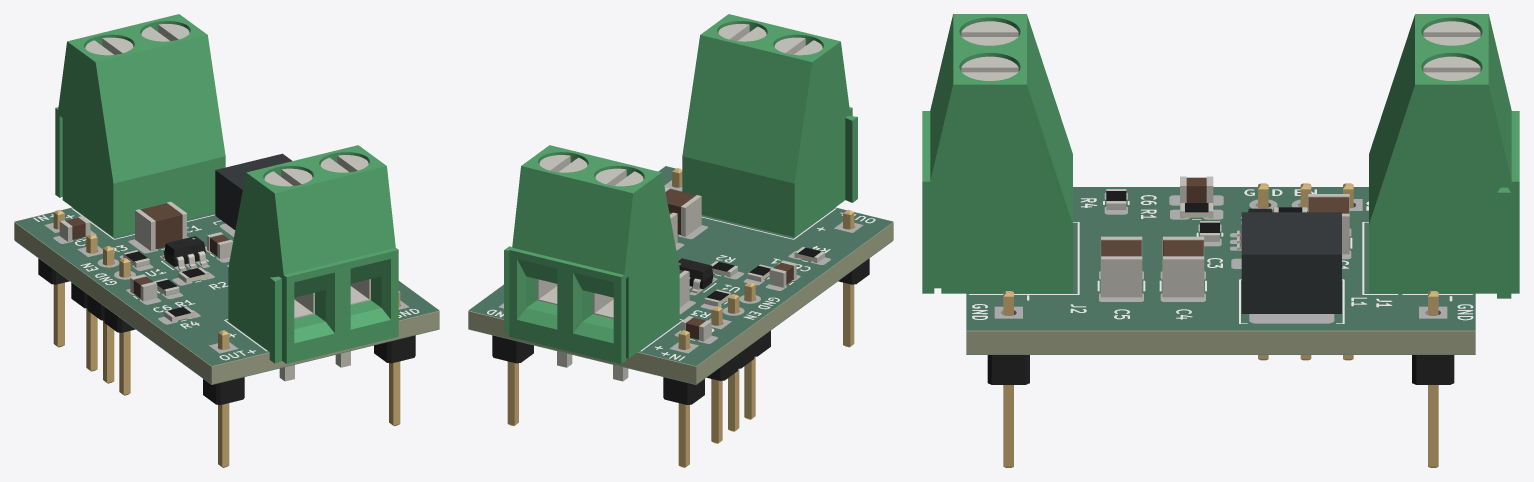
Rendered from board.glb.
3 renders of one model, left to right at view 1: azimuth 30°, elevation 25°; view 2: azimuth 150°, elevation 25°; view 3: azimuth 270°, elevation 25°, orthographic. The views are drawn at different scales.
Visible parts, largest first — view 1: =>[0:1:1:3]; view 2: =>[0:1:1:3]; view 3: =>[0:1:1:3].
Boxes of the visible parts, x1,y1,x2,y2 form: =>[0:1:1:3]: [14, 14, 439, 467]; =>[0:1:1:3]: [468, 14, 893, 467]; =>[0:1:1:3]: [922, 14, 1519, 467].
Size of the model in its own units: 0.0203 by 0.024 by 0.0357.
1 material, 1 textured.
